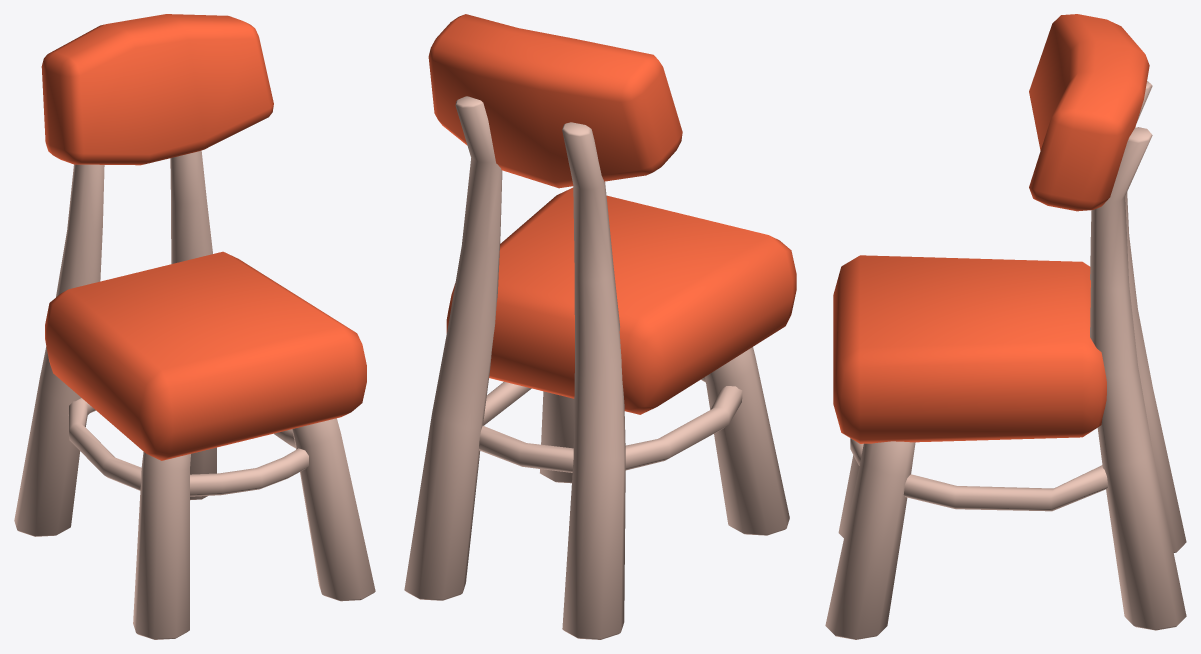
The model's file is V2_Chair_01.fbx.
3 views of the same model, side by side, from view 1: azimuth 30°, elevation 25°; view 2: azimuth 150°, elevation 25°; view 3: azimuth 270°, elevation 25° (orthographic). The views are drawn at different scales.
Parts seen in each view (by area): view 1: Plane.012; view 2: Plane.012; view 3: Plane.012.
Boxes of the visible parts, x1=… form: Plane.012: x1=14, y1=14, x2=375, y2=639; Plane.012: x1=404, y1=14, x2=796, y2=639; Plane.012: x1=825, y1=14, x2=1186, y2=639.
Size of the model in its own units: 41.74 by 86.84 by 53.58.
